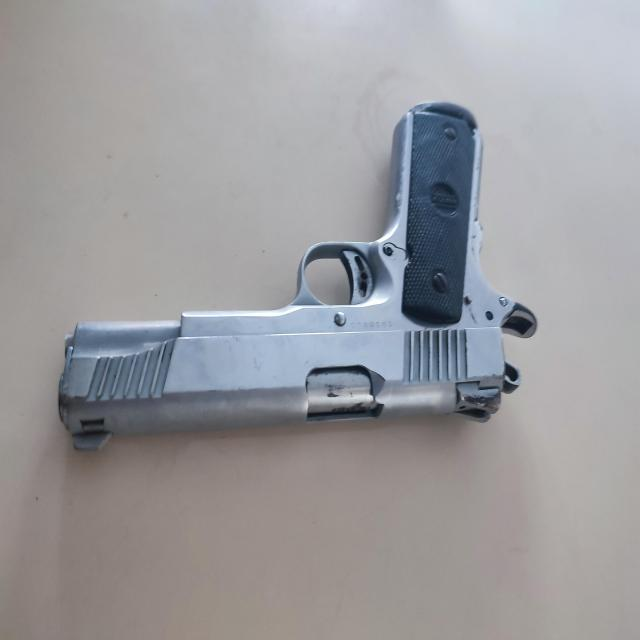pistol: (58, 101, 536, 450)
